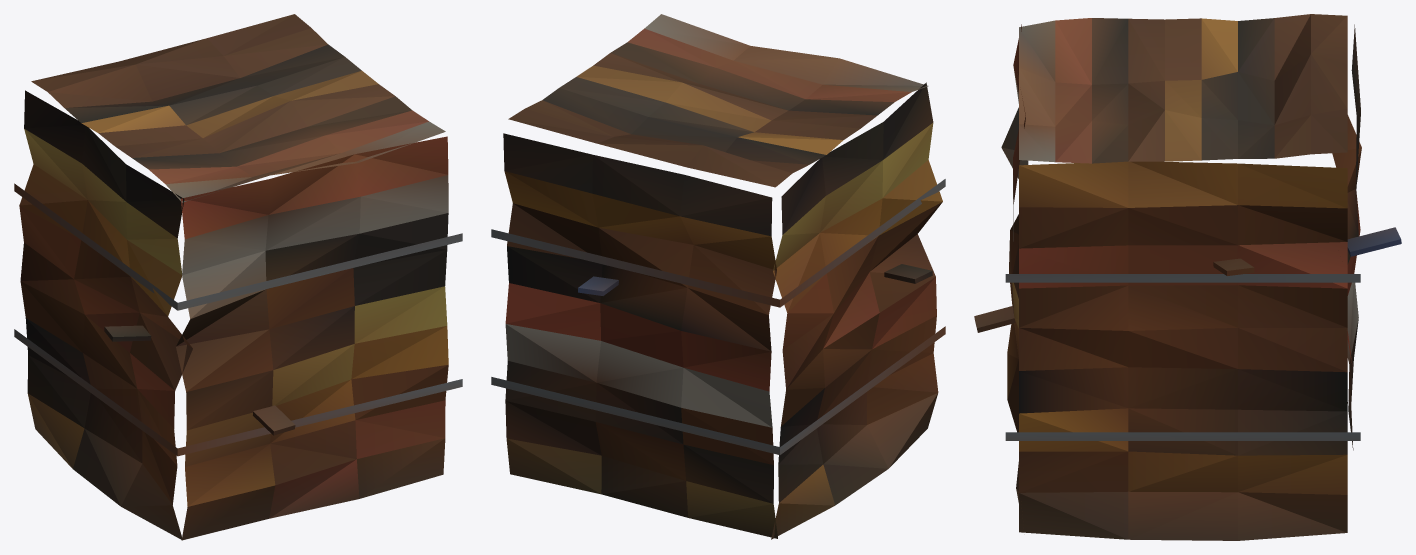
File: crushed_cube.glb
3 renders of one model, left to right at view 1: azimuth 30°, elevation 25°; view 2: azimuth 150°, elevation 25°; view 3: azimuth 270°, elevation 25°, orthographic. The views are drawn at different scales.
Parts seen in each view (by area): view 1: CrushedCube; view 2: CrushedCube; view 3: CrushedCube.
Part boxes in pixels (box(x1,y1,x2,y2)): CrushedCube: box(14, 14, 462, 540); CrushedCube: box(491, 14, 945, 539); CrushedCube: box(974, 14, 1401, 540).
Bounding box in the file's own units: 1.5 × 1.5 × 1.5.
